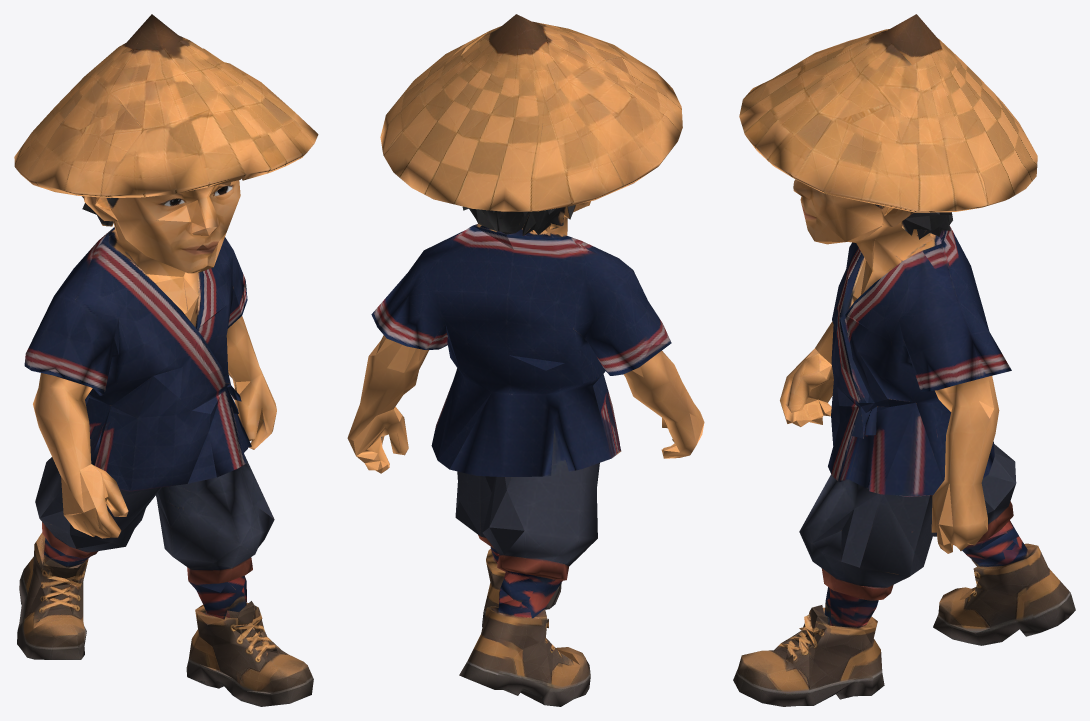
Rendered from C6_villager_a.glb.
3 views of the same model, side by side, from view 1: azimuth 30°, elevation 25°; view 2: azimuth 150°, elevation 25°; view 3: azimuth 270°, elevation 25° (orthographic).
Visible parts, largest first — view 1: Mesh_0.001; view 2: Mesh_0.001; view 3: Mesh_0.001.
Part boxes in pixels (left/top/right/bottom): Mesh_0.001: left=14, top=14, right=318, bottom=706; Mesh_0.001: left=347, top=14, right=704, bottom=706; Mesh_0.001: left=733, top=14, right=1075, bottom=706.
Bounding box in the file's own units: 0.5234 × 1.15 × 0.546.
Materials: 1 (1 with a texture image).
